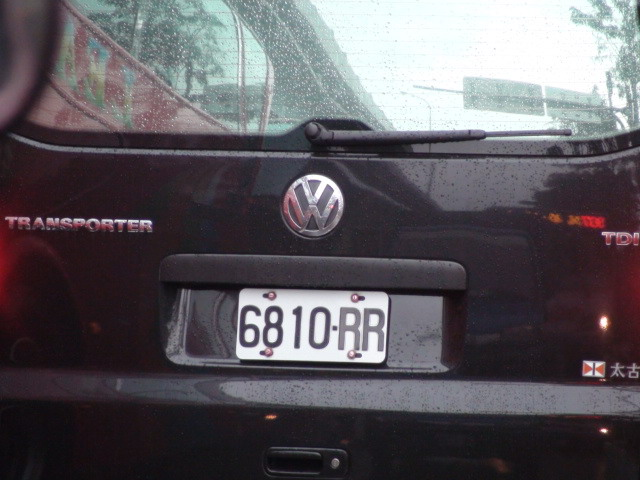plate: (233, 283, 395, 368)
